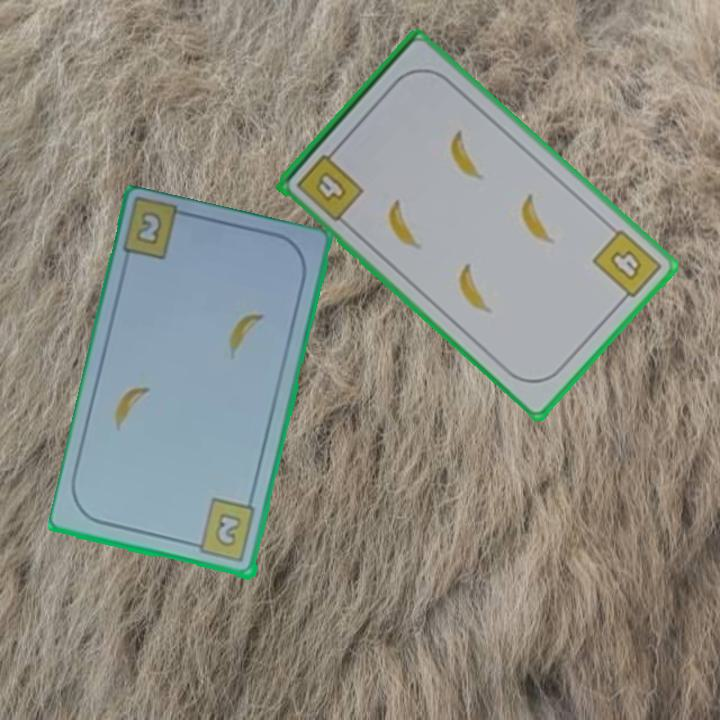2b: (187, 496, 259, 565), (132, 207, 166, 249)
4b: (589, 225, 665, 308), (292, 143, 367, 225)
